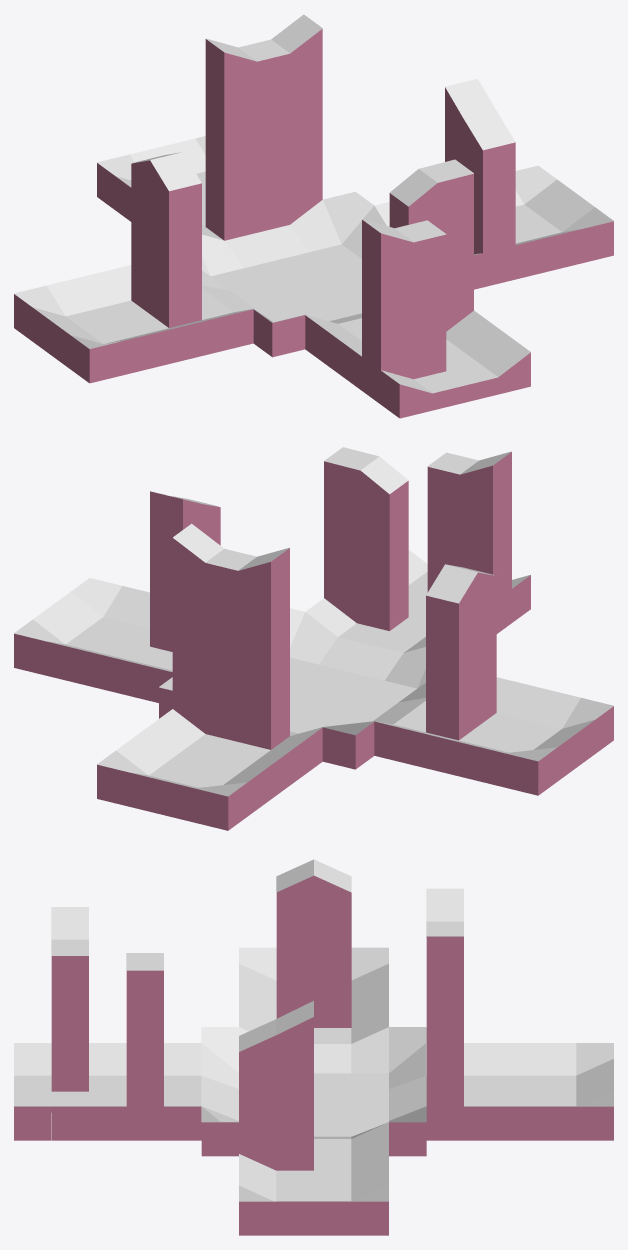
The model's file is lvl2-Crossroads-v2.glb.
3 views of the same model, one above another, from view 1: azimuth 30°, elevation 25°; view 2: azimuth 150°, elevation 25°; view 3: azimuth 270°, elevation 25° (orthographic).
Visible parts, largest first — view 1: Terrain, Tile.112, Tile.063, Tile.080, Tile.086, Tile.051, Tile.079, Tile.054, Tile.059, Tile.060, Tile.111, Tile.058 (+32 smaller); view 2: Terrain, Tile.032, Tile.085, Tile.009, Tile.013, Tile.045, Tile.090, Tile.007, Tile.098, Tile.047, Tile.033, Tile.099 (+35 smaller); view 3: Terrain, Tile.052, Tile.087, Tile.003, Tile.005, Tile.006, Tile.066, Tile.069, Tile.072, Tile.083, Tile.008, Tile.061 (+59 smaller).
Part boxes in pixels (x1,y1,x2,y2): Terrain: (14, 28, 613, 418); Tile.112: (290, 200, 341, 252); Tile.063: (323, 191, 374, 243); Tile.080: (445, 78, 496, 118); Tile.086: (150, 152, 201, 190); Tile.051: (47, 277, 98, 316); Tile.079: (464, 111, 515, 149); Tile.054: (79, 269, 130, 308); Tile.059: (202, 234, 242, 275); Tile.060: (257, 225, 308, 260); Tile.111: (224, 233, 275, 268); Tile.058: (515, 165, 556, 204); Terrain: (14, 452, 613, 830); Tile.032: (290, 612, 337, 664); Tile.085: (426, 564, 477, 603); Tile.009: (529, 690, 580, 728); Tile.013: (497, 682, 547, 720); Tile.045: (103, 586, 149, 624); Tile.090: (385, 647, 425, 688); Tile.007: (352, 645, 403, 680); Tile.098: (319, 637, 370, 672); Tile.047: (71, 578, 121, 616); Tile.033: (305, 598, 356, 636); Tile.099: (33, 605, 84, 644); Terrain: (14, 875, 613, 1235); Tile.052: (351, 1027, 388, 1073); Tile.087: (426, 888, 463, 921); Tile.003: (164, 1043, 201, 1075); Tile.005: (14, 1043, 51, 1075); Tile.006: (89, 1043, 126, 1075); Tile.066: (464, 1043, 501, 1075); Tile.069: (501, 1043, 538, 1075); Tile.072: (539, 1043, 576, 1075); Tile.083: (51, 907, 88, 939); Tile.008: (201, 1027, 238, 1072); Tile.061: (389, 1027, 426, 1072).
Size of the model in its own units: 16 by 6.01 by 16.
